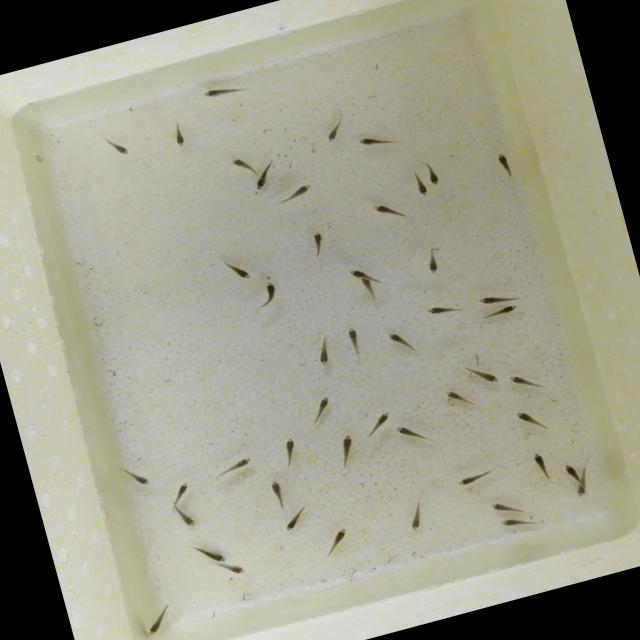fingerling: (414, 296, 466, 323), (508, 402, 546, 434), (214, 452, 260, 478), (348, 128, 390, 154), (197, 80, 239, 106), (388, 418, 424, 448), (522, 444, 552, 478), (472, 288, 518, 310), (218, 554, 252, 583), (320, 524, 354, 552), (122, 465, 156, 493), (280, 179, 319, 203), (276, 509, 308, 538), (333, 431, 361, 464), (223, 151, 259, 176), (340, 320, 366, 354), (481, 302, 524, 322), (503, 370, 538, 394), (368, 198, 403, 222), (308, 392, 336, 422), (438, 383, 470, 409), (262, 478, 290, 507), (354, 272, 382, 301), (200, 544, 230, 571), (258, 275, 282, 308), (488, 148, 516, 176), (453, 468, 492, 488), (497, 512, 535, 532), (367, 408, 394, 436), (473, 362, 499, 391), (169, 120, 192, 150), (320, 122, 346, 148), (104, 136, 132, 160), (280, 432, 300, 464), (383, 328, 412, 350), (308, 227, 330, 256), (420, 163, 444, 189), (144, 612, 169, 636), (170, 480, 193, 506), (176, 505, 198, 532), (488, 498, 520, 516), (228, 263, 254, 285), (314, 340, 334, 368), (252, 167, 274, 192), (571, 479, 594, 502), (422, 251, 443, 276), (405, 510, 428, 532), (346, 264, 370, 284), (413, 173, 429, 200), (564, 462, 578, 478)
